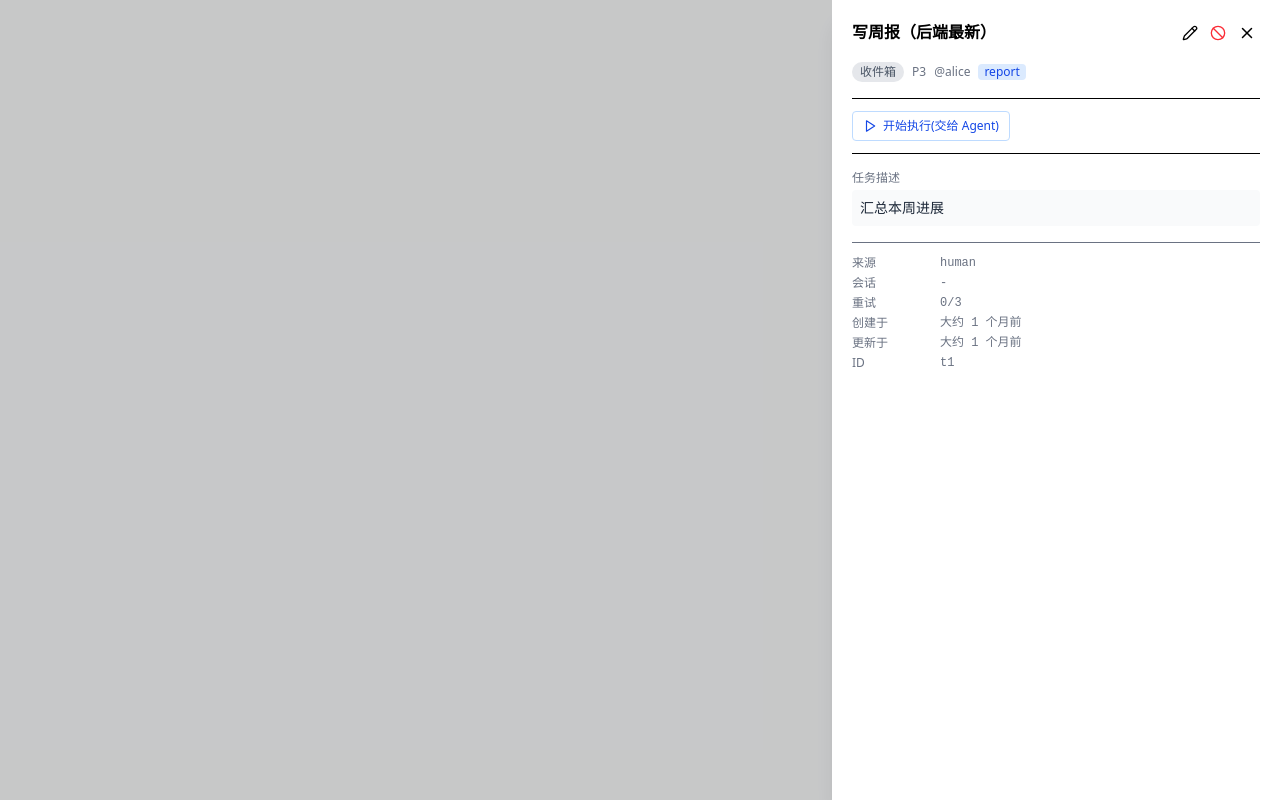
Test: TaskDetailDrawer 编辑 › 编辑表单用 store 记录回填
What coordinates should you click on to do the following:
click the button named "编辑任务：写周报（后端最新）"
I would click on:
 (1190, 33)
Its box is [1178,21,1202,45].
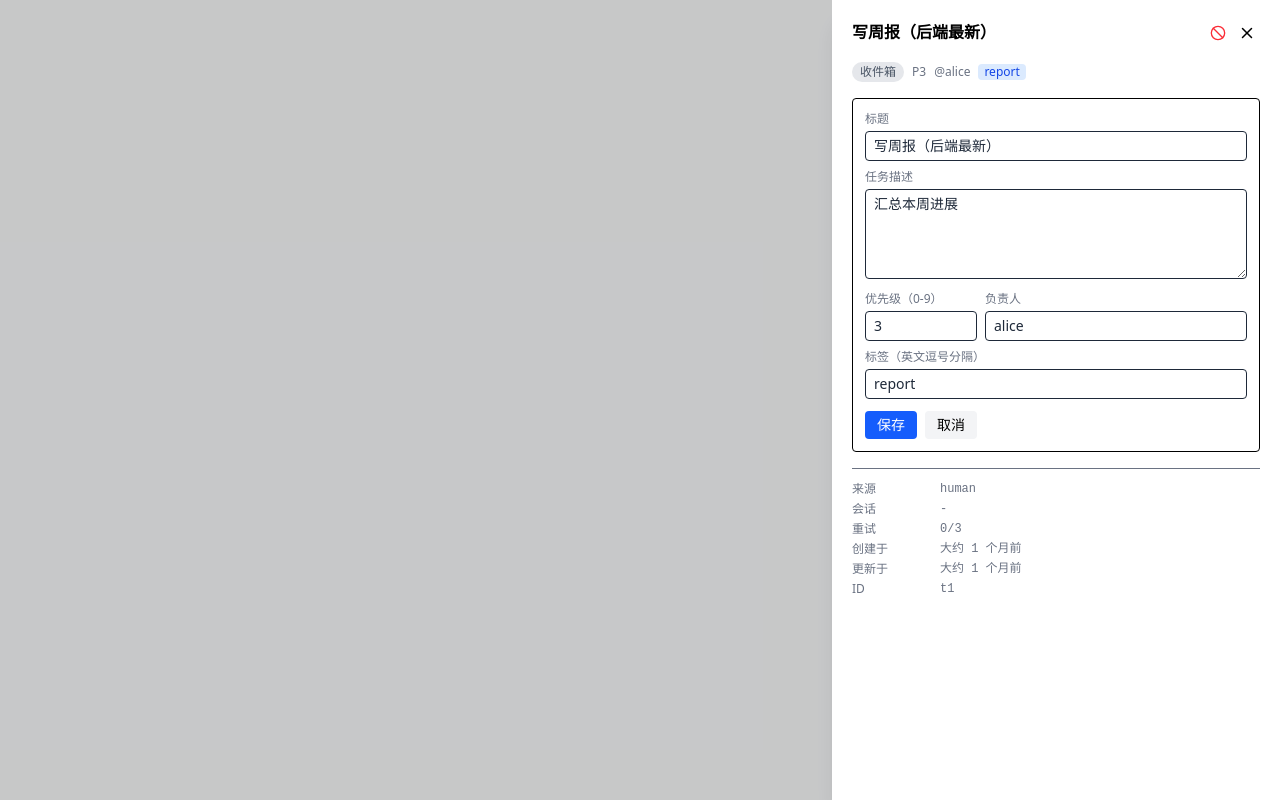
Check: the field labelled "标题" holds "写周报（后端最新）", box [865,131,1247,161]
Check: the number field labelled "优先级（0-9）" holds "3", box [865,311,977,341]
Check: the field labelled "负责人" holds "alice", box [985,311,1247,341]
